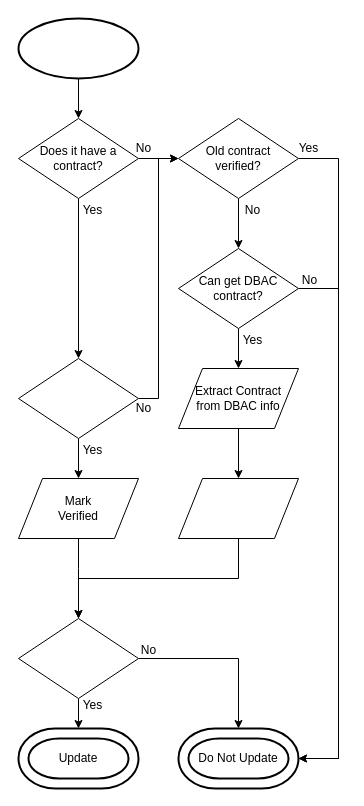
The diagram is 364 pixels wide and 806 high, and some of its shapes have lost their labels. Each missing label, with the centre of its shape:
Mark Extracted: the point at 238,508
Policy compliant?: the point at 78,658
Update Software Notification: the point at 78,48
Valid PoC?: the point at 78,398
